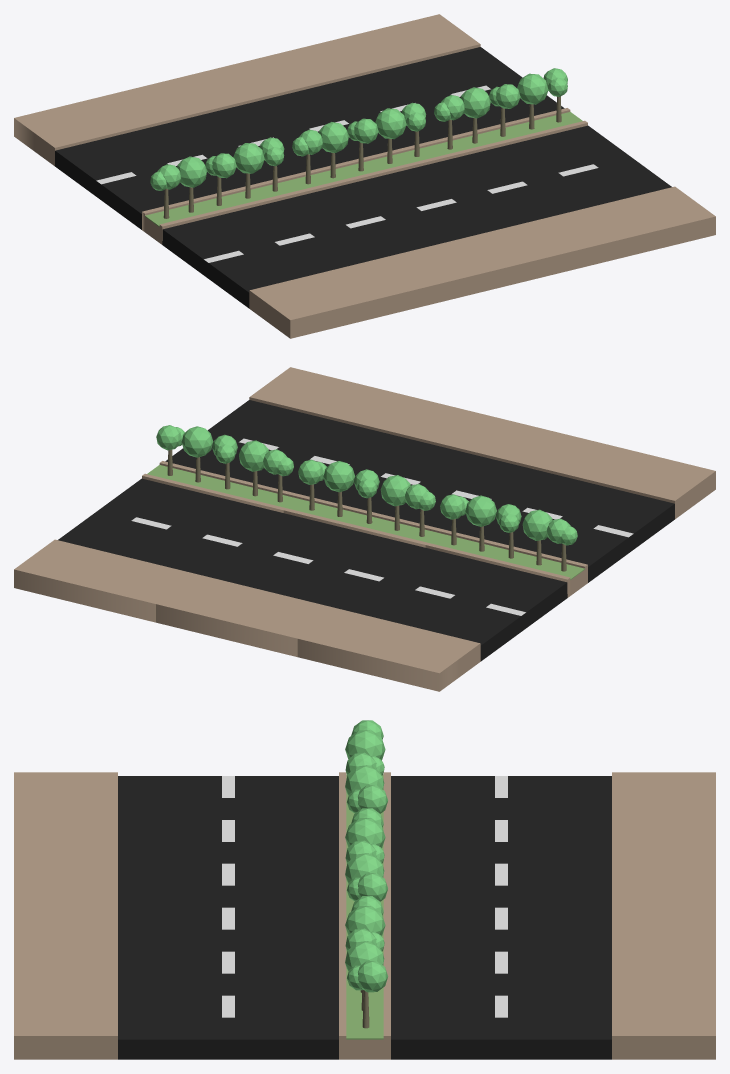
File: road_avenue_offset.fbx
The picture shows the model from 3 angles, top to bottom: view 1: azimuth 30°, elevation 25°; view 2: azimuth 150°, elevation 25°; view 3: azimuth 270°, elevation 25°; orthographic projection. The views are drawn at different scales.
Visible parts, largest first — view 1: Cube.001; view 2: Cube.001; view 3: Cube.001.
Part boxes in pixels (x1,y1,x2,y2): Cube.001: (14,14,715,338); Cube.001: (14,367,715,691); Cube.001: (14,720,715,1059).
Bounding box in the file's own units: 4802 × 757 × 5400.
